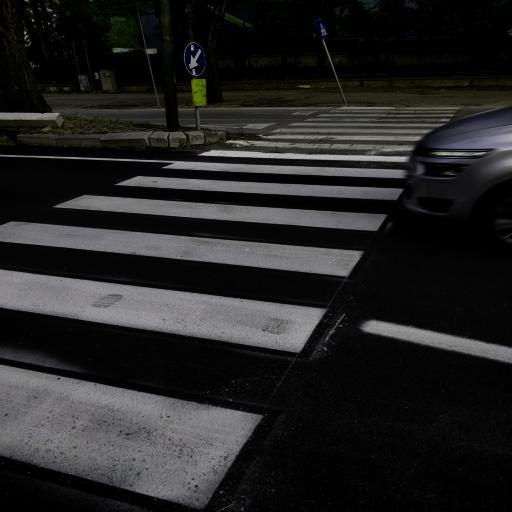crosswalk: (1, 192, 391, 283)
